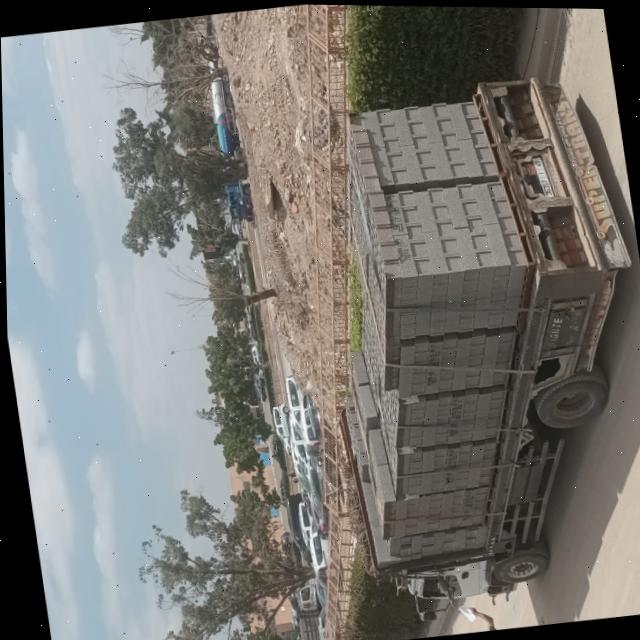bricks: (348, 102, 526, 567)
